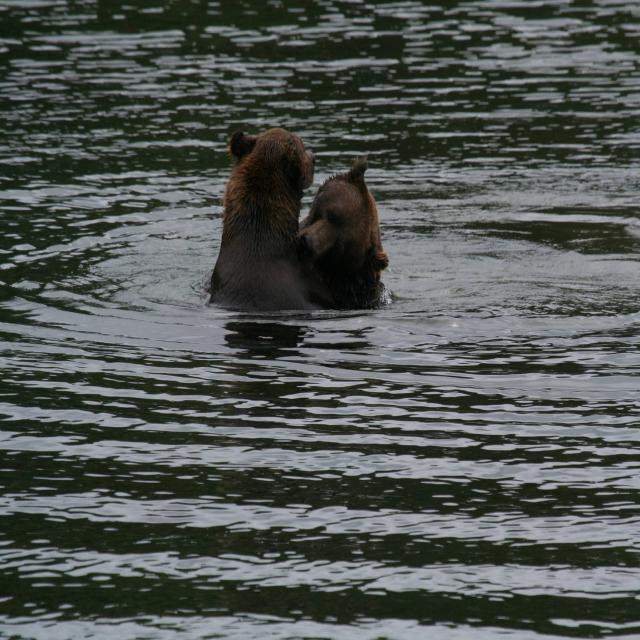bear face: (222, 129, 316, 299), (297, 158, 390, 289)
